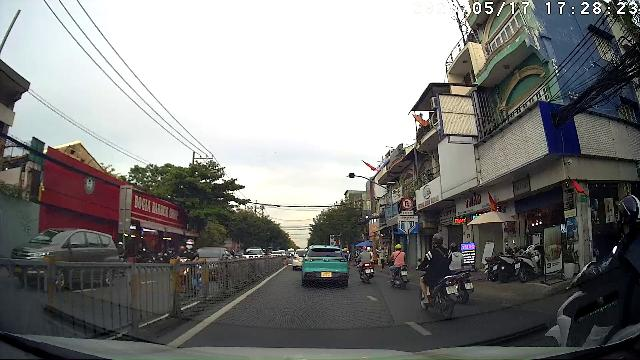124b-cam-oto-quay-dau-xe: (401, 197, 413, 209)
